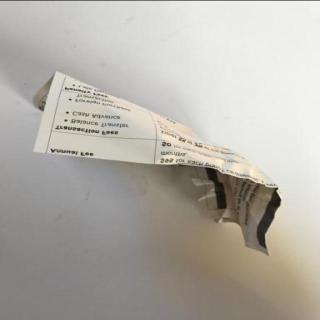Anorganik: (27, 71, 286, 258)
